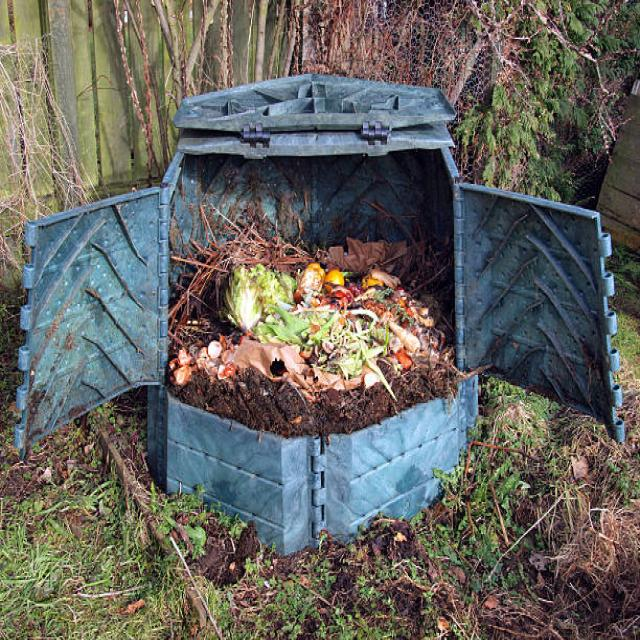Organic: (172, 260, 458, 376)
